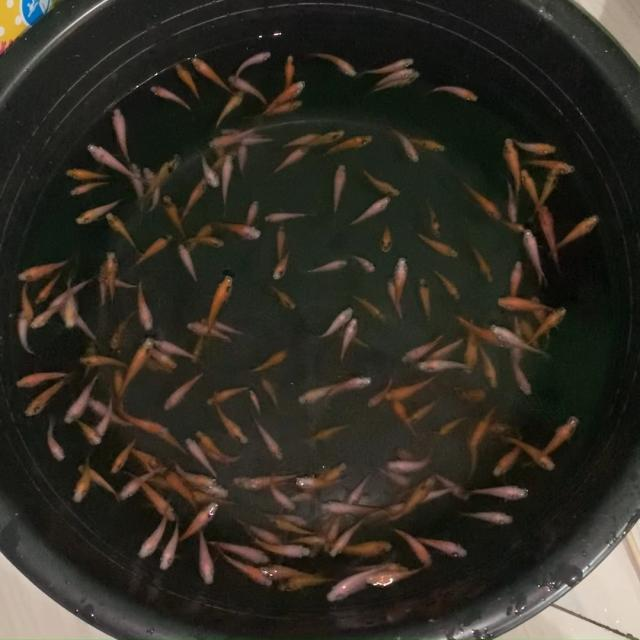nila: (528, 412, 580, 467), (322, 562, 390, 604), (135, 150, 183, 203), (546, 212, 603, 256), (492, 322, 554, 360), (24, 373, 70, 424), (85, 141, 143, 180), (391, 473, 436, 523), (218, 552, 275, 588), (118, 338, 152, 398), (416, 332, 469, 368), (64, 374, 102, 424), (162, 372, 207, 414), (501, 436, 556, 470), (532, 162, 564, 220), (460, 182, 503, 225), (459, 314, 512, 348), (179, 466, 234, 498), (251, 412, 286, 462), (260, 78, 306, 116), (528, 304, 574, 342), (207, 272, 234, 336), (490, 429, 526, 477), (399, 329, 445, 366), (328, 517, 369, 558), (80, 460, 120, 502), (393, 526, 433, 568), (60, 304, 100, 346), (216, 398, 250, 447), (232, 516, 287, 546), (120, 466, 166, 501), (138, 480, 176, 522), (540, 203, 562, 275), (413, 533, 471, 560), (266, 471, 300, 517), (181, 504, 220, 544), (210, 538, 270, 564), (183, 436, 219, 479), (75, 198, 123, 230), (191, 56, 233, 92), (241, 467, 304, 491), (15, 256, 73, 282), (47, 276, 97, 306), (108, 210, 142, 254), (314, 304, 353, 342), (136, 513, 167, 560), (156, 520, 182, 576), (386, 374, 442, 400), (321, 376, 372, 404), (210, 90, 247, 128), (141, 158, 165, 216), (347, 196, 390, 228), (137, 232, 175, 268), (9, 368, 74, 389), (501, 136, 523, 198), (196, 440, 248, 466), (172, 62, 206, 101), (43, 411, 68, 464), (311, 49, 360, 76), (362, 167, 404, 198), (92, 398, 134, 429), (372, 69, 424, 94), (148, 86, 194, 114), (416, 232, 461, 260), (197, 523, 217, 586), (253, 536, 313, 557), (403, 394, 445, 424), (164, 469, 196, 508), (120, 406, 164, 434), (337, 536, 393, 558), (433, 471, 474, 501), (470, 404, 500, 445), (418, 360, 476, 381), (128, 445, 166, 477), (246, 350, 289, 378), (234, 50, 274, 80), (310, 512, 335, 560), (457, 506, 517, 526), (184, 321, 236, 344), (110, 433, 136, 479), (470, 484, 540, 501), (388, 128, 421, 164), (384, 452, 438, 474), (462, 312, 480, 378), (228, 75, 270, 103), (75, 454, 96, 510), (210, 124, 263, 146), (273, 572, 326, 594), (270, 146, 310, 175), (258, 562, 322, 580), (34, 268, 66, 304), (96, 390, 120, 438), (110, 108, 132, 160), (110, 308, 136, 352), (153, 337, 200, 361), (183, 220, 218, 252), (368, 373, 396, 413), (174, 243, 200, 286), (352, 292, 388, 323), (334, 320, 357, 368), (212, 219, 262, 241), (478, 344, 501, 391), (202, 150, 238, 180), (314, 460, 350, 490), (390, 400, 420, 436), (164, 195, 189, 238), (429, 84, 482, 104), (184, 488, 242, 506), (470, 243, 496, 283), (204, 384, 251, 406), (196, 428, 226, 462), (348, 468, 377, 503), (308, 422, 354, 444), (152, 428, 188, 456), (142, 475, 198, 493), (361, 56, 414, 75), (184, 178, 209, 218), (324, 134, 374, 154), (533, 294, 553, 344), (334, 326, 372, 352), (433, 269, 461, 304), (388, 279, 408, 328), (62, 278, 80, 332), (523, 155, 580, 172), (265, 504, 309, 526), (300, 383, 340, 407), (293, 472, 349, 489), (366, 570, 422, 587), (74, 416, 102, 450), (304, 257, 349, 278), (491, 296, 558, 310), (464, 434, 482, 486), (304, 128, 346, 150), (269, 514, 313, 535), (510, 358, 533, 398), (510, 317, 528, 368), (520, 167, 542, 208), (332, 162, 347, 222), (201, 317, 246, 337), (515, 136, 560, 156), (28, 304, 64, 329), (150, 340, 180, 370), (228, 474, 292, 488), (274, 491, 316, 512), (184, 232, 230, 251), (444, 382, 491, 400), (64, 165, 111, 183), (348, 560, 413, 573), (374, 66, 414, 87), (262, 99, 304, 119), (268, 284, 298, 312), (136, 278, 152, 330), (423, 201, 444, 240), (318, 500, 376, 514), (128, 161, 146, 206), (323, 512, 343, 552), (412, 488, 452, 508), (105, 248, 118, 308), (69, 180, 110, 199), (394, 255, 408, 310), (220, 154, 233, 212), (142, 350, 172, 375), (79, 341, 97, 382), (516, 318, 542, 346), (280, 131, 320, 149), (419, 274, 434, 322), (272, 248, 293, 282), (18, 318, 36, 357), (262, 377, 282, 412), (237, 136, 253, 178), (200, 154, 218, 191), (437, 416, 467, 438), (98, 274, 138, 290), (286, 534, 330, 548), (412, 137, 448, 154), (536, 257, 556, 287), (192, 331, 209, 366), (349, 252, 376, 274), (368, 502, 410, 516), (506, 176, 518, 225), (80, 356, 128, 368), (20, 282, 34, 322), (112, 368, 125, 411), (98, 262, 109, 311), (282, 53, 296, 91), (508, 260, 522, 298), (219, 128, 269, 138), (382, 223, 396, 257), (248, 390, 264, 419), (232, 134, 277, 144), (245, 200, 260, 230), (264, 212, 308, 222), (277, 222, 287, 262), (395, 443, 415, 463), (500, 220, 524, 232)
